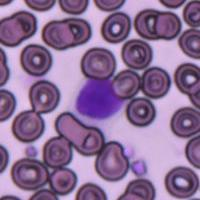L: (70, 77, 127, 124)
